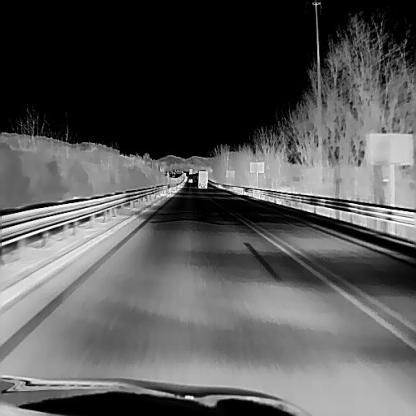car: (186, 175, 192, 182)
truck: (197, 168, 208, 188)
